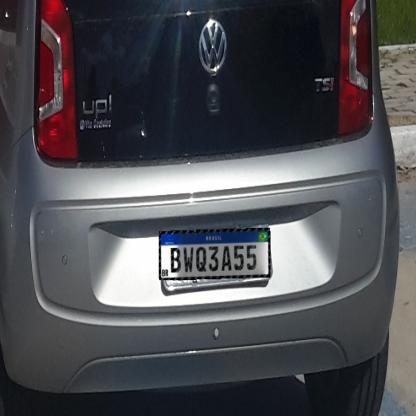PlacaM: (158, 228, 270, 280)
